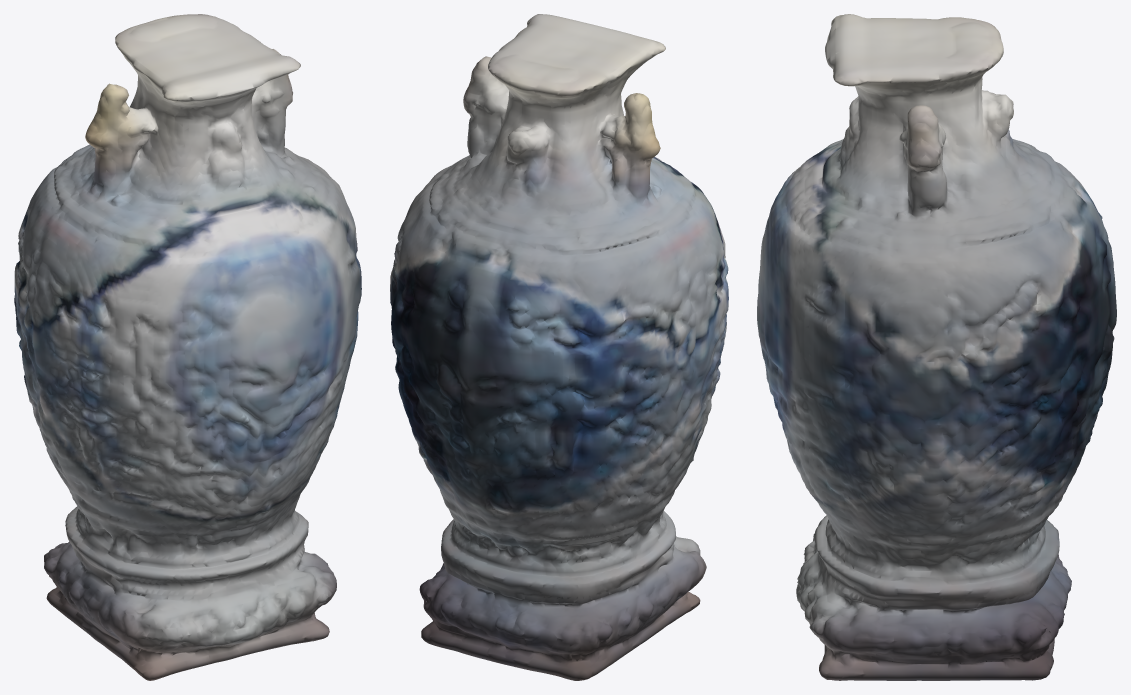
File: eaf4fbde-604a-4d73-9ab4-315a9881c88b.glb
3 views of the same model, side by side, from view 1: azimuth 30°, elevation 25°; view 2: azimuth 150°, elevation 25°; view 3: azimuth 270°, elevation 25° (orthographic). The views are drawn at different scales.
Visible parts, largest first — view 1: world; view 2: world; view 3: world.
Boxes of the visible parts, left/top/right/bottom form: world: left=14, top=14, right=361, bottom=680; world: left=390, top=14, right=728, bottom=680; world: left=757, top=14, right=1116, bottom=680.
Size of the model in its own units: 16.02 by 30 by 16.22.
